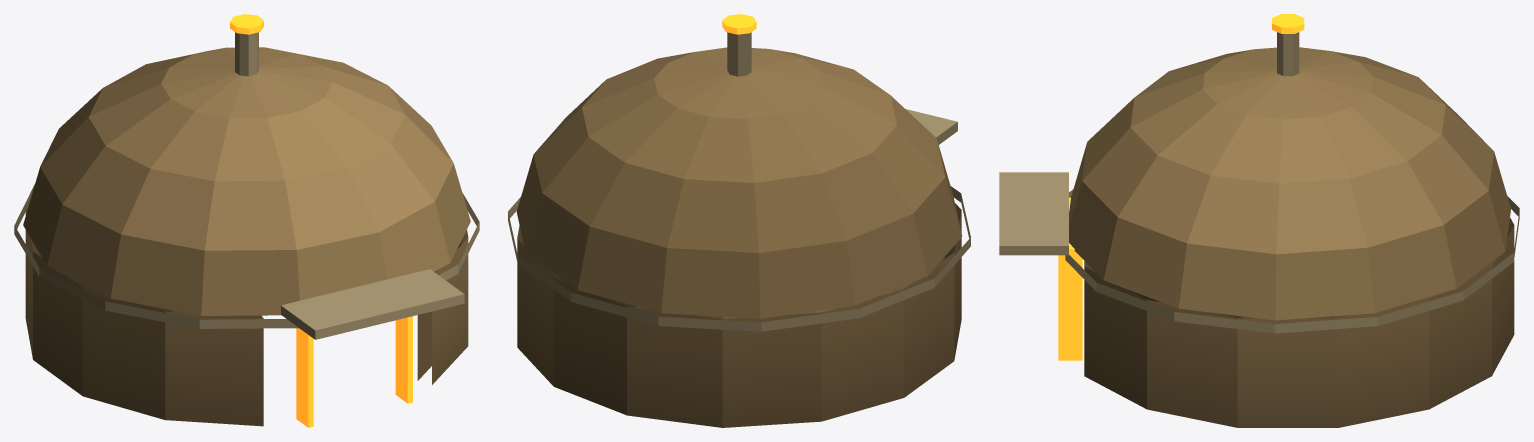
File: shaddai_dist_desert_home_b_v01.glb
The picture shows the model from 3 angles, left to right: view 1: azimuth 30°, elevation 25°; view 2: azimuth 150°, elevation 25°; view 3: azimuth 270°, elevation 25°; orthographic projection.
Visible parts, largest first — view 1: shaddai_dist_desert_home_b; view 2: shaddai_dist_desert_home_b; view 3: shaddai_dist_desert_home_b.
Boxes of the visible parts, bbox=[...] form: shaddai_dist_desert_home_b: bbox=[14, 14, 479, 427]; shaddai_dist_desert_home_b: bbox=[508, 14, 970, 427]; shaddai_dist_desert_home_b: bbox=[999, 14, 1519, 427].
Bounding box in the file's own units: 13.48 × 9.95 × 14.95.
